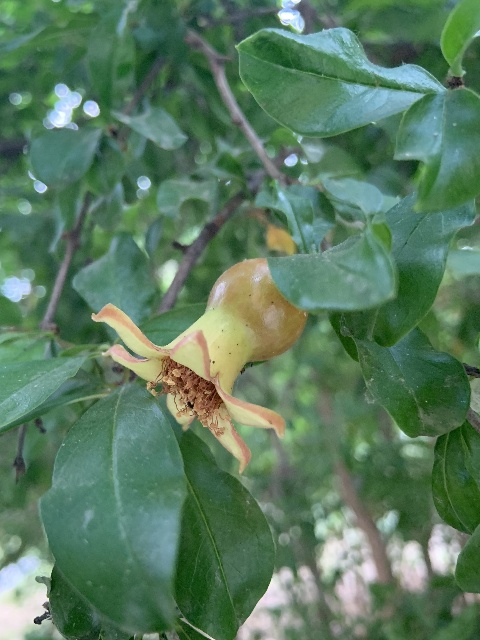early-fruit: (92, 257, 304, 473)
